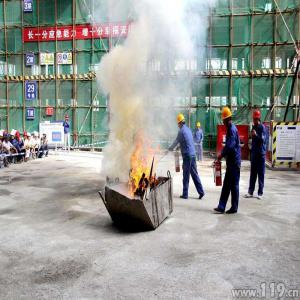red: (252, 110, 262, 127)
yellow: (223, 108, 233, 127), (178, 114, 186, 131), (198, 121, 202, 131)
